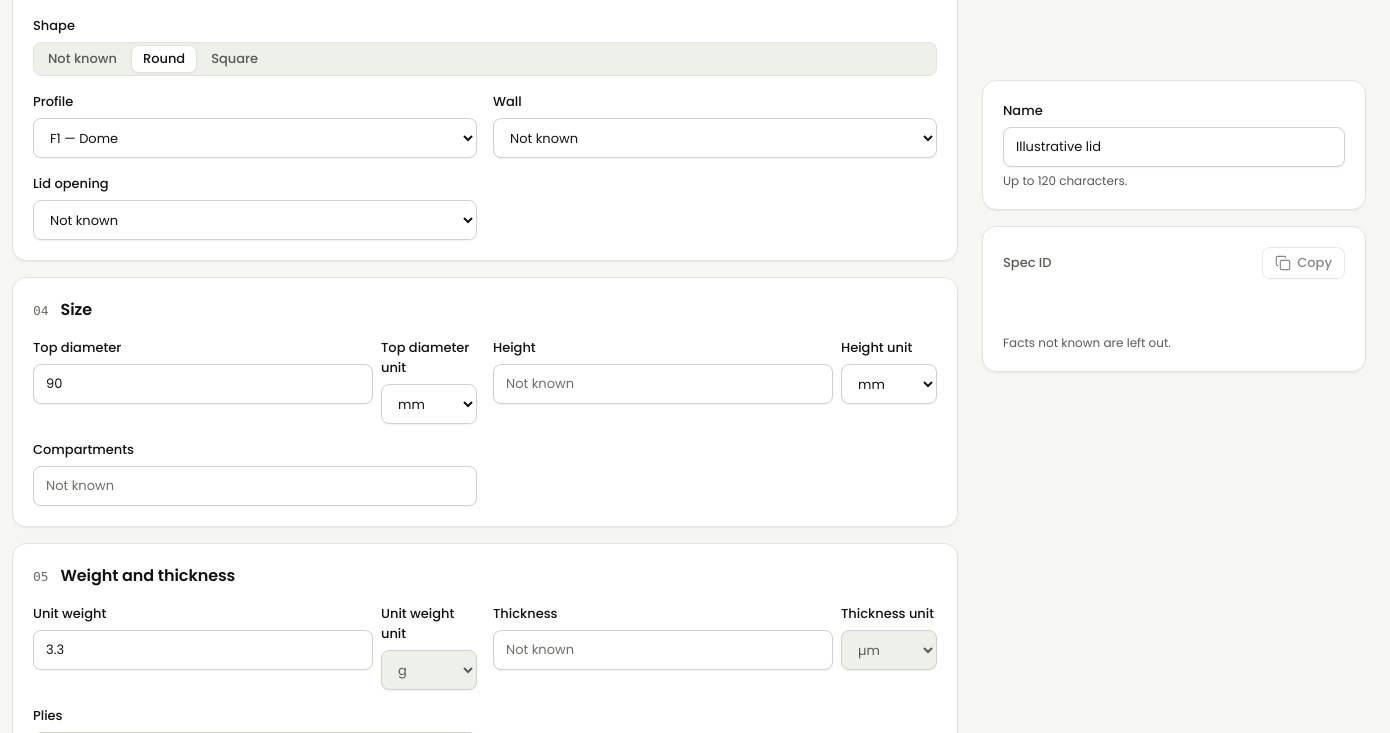
Test: SpecIdEditor, Save changes › sends the version it started from, and says the new code
The image size is (1390, 733).
(page scrolled)
Type "62" into the field labelled "Height". click: [663, 384]
box: 493,364 -> 833,404
(page scrolled)
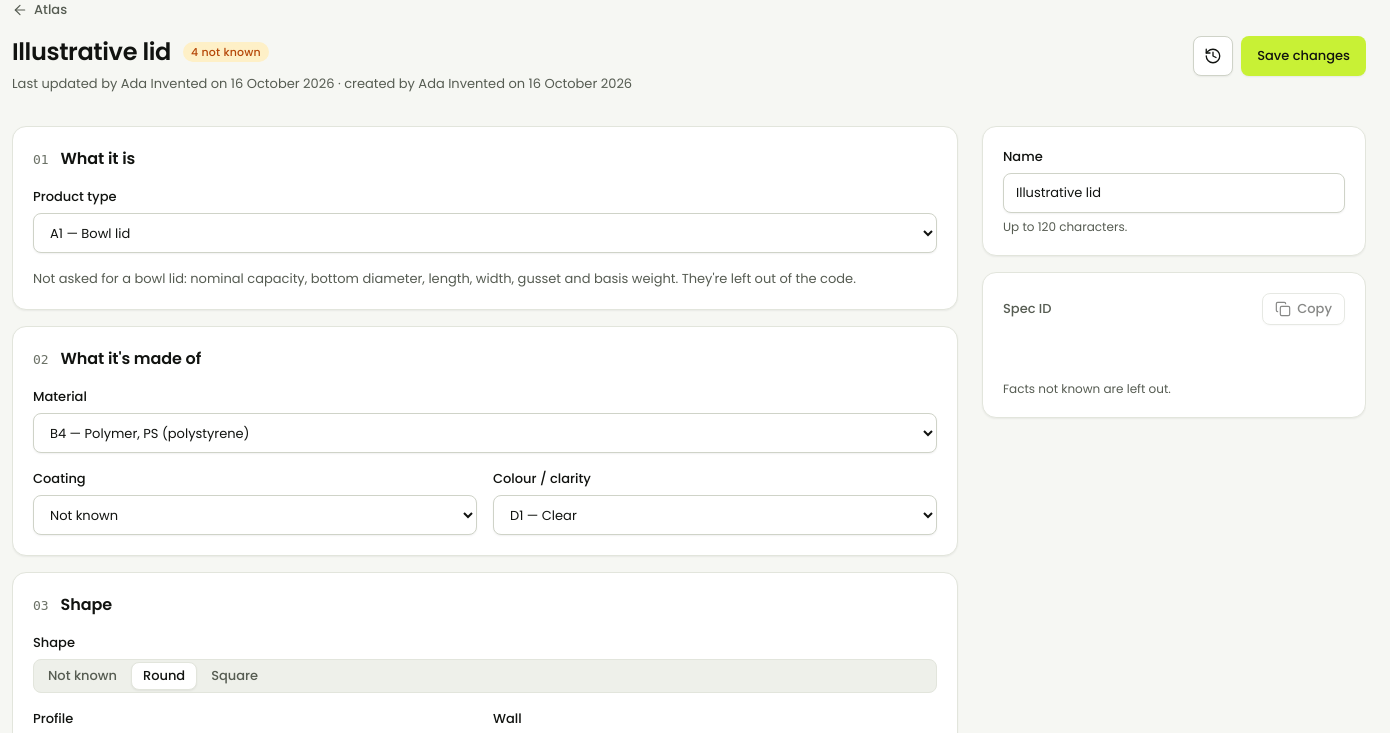
Click the button "Save changes". click: [1304, 56]
box: 1241,36 -> 1366,76
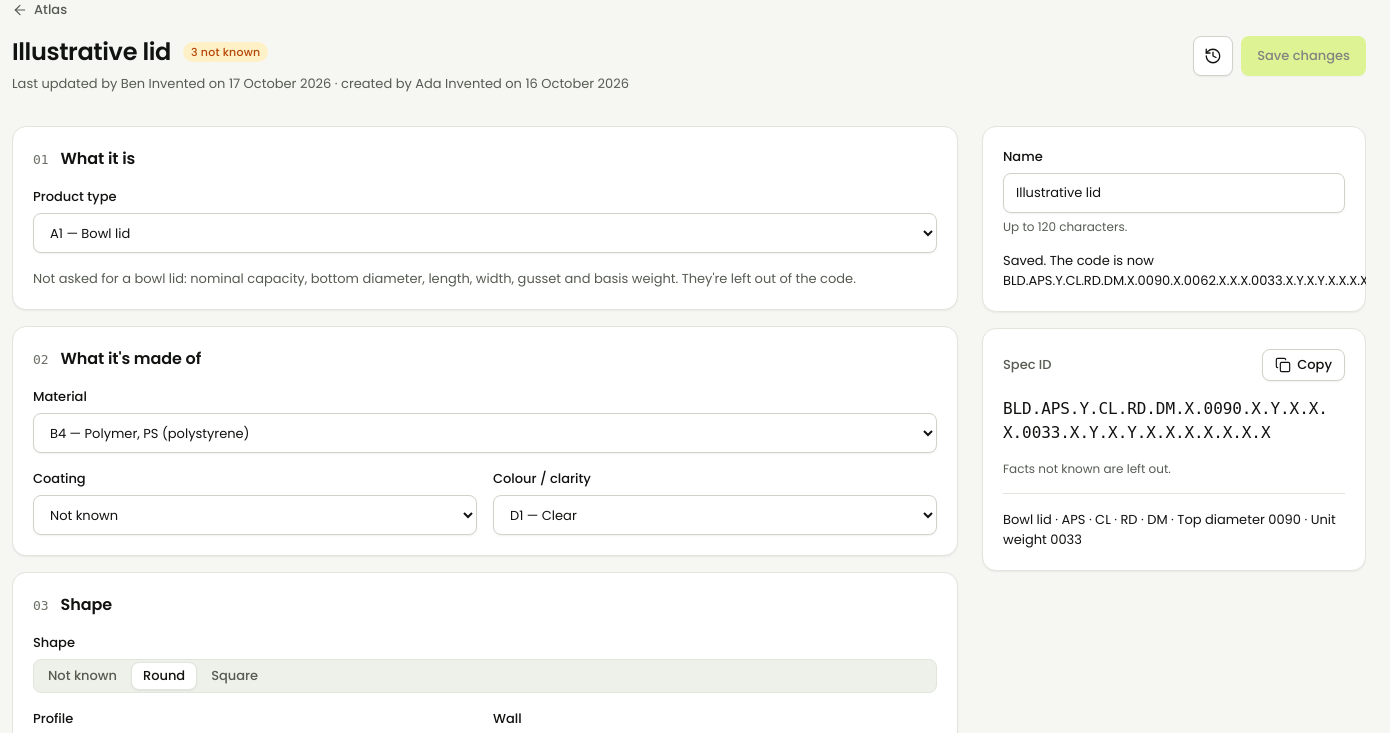
expect the text "3 not known" is shown: met, box 183,42 -> 268,62
expect the text "Last updated by Ben Invented on 17 October 2026 · created by Ada Invented on 16 October 2026" is shown: met, box 12,74 -> 629,93
expect the button "Save changes" is disabled: met, box 1241,36 -> 1366,76
